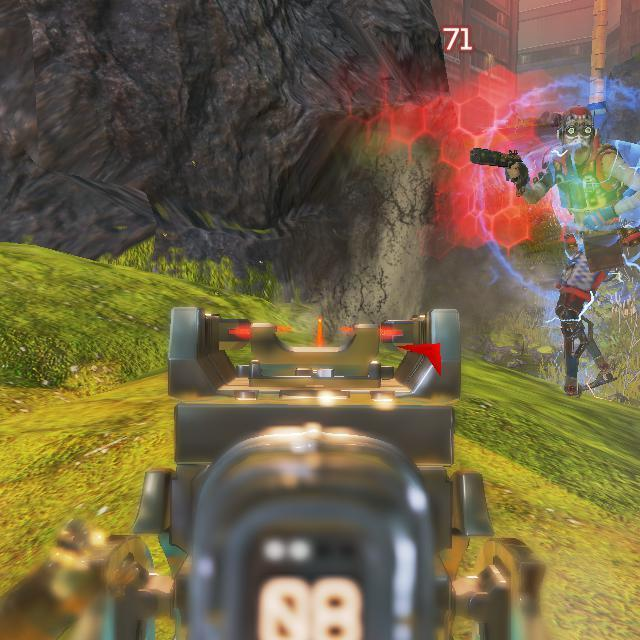avatar: (542, 103, 640, 399)
